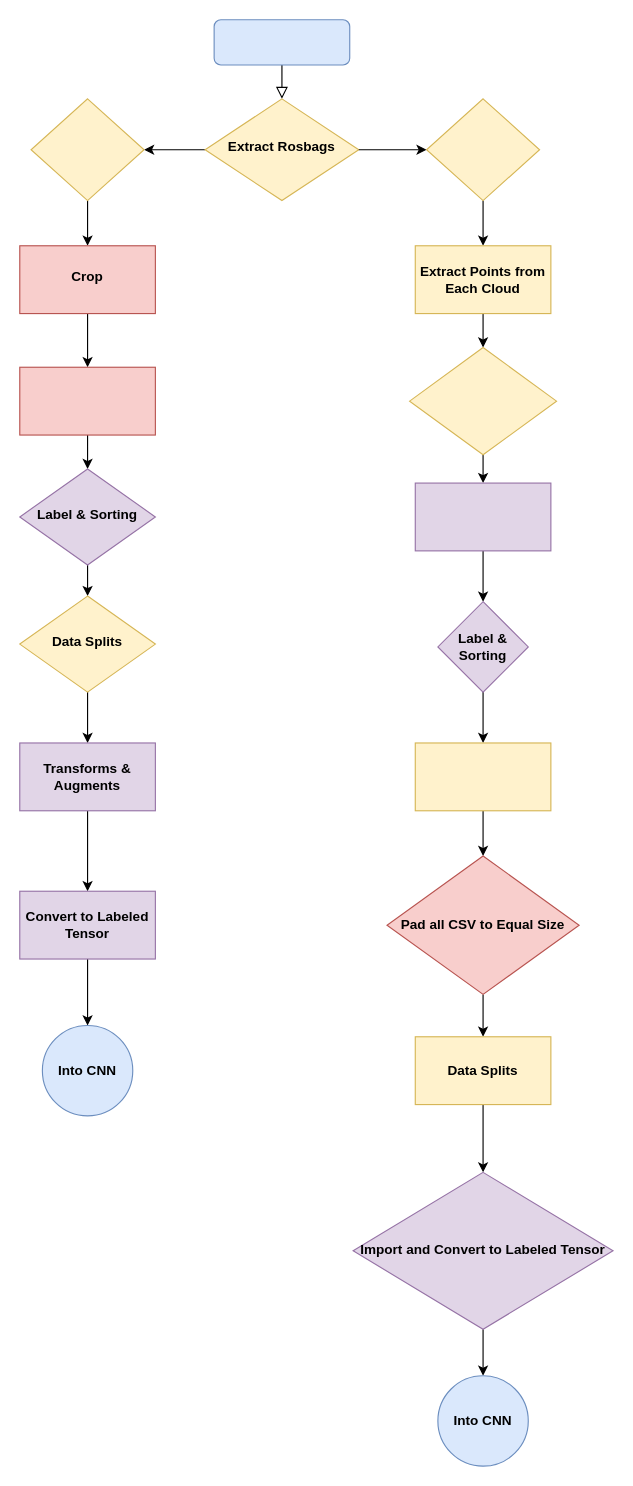
This 633x1486 diagram has some shape labels left out. The shapes that lost their labels are listed below. From the top down, each one's box as (x1, y1, x2, y2) in pixels, then its label:
(213, 19, 350, 65): Capture Data as Rosbag
(30, 98, 144, 201): Extract Images
(425, 98, 540, 201): Extract Pointclouds
(19, 366, 155, 435): Convert to RGB
(408, 346, 557, 455): Extract X,Y,Z,I
(414, 482, 551, 551): Write Data to CSV
(414, 742, 551, 811): Delete Empty CSV
